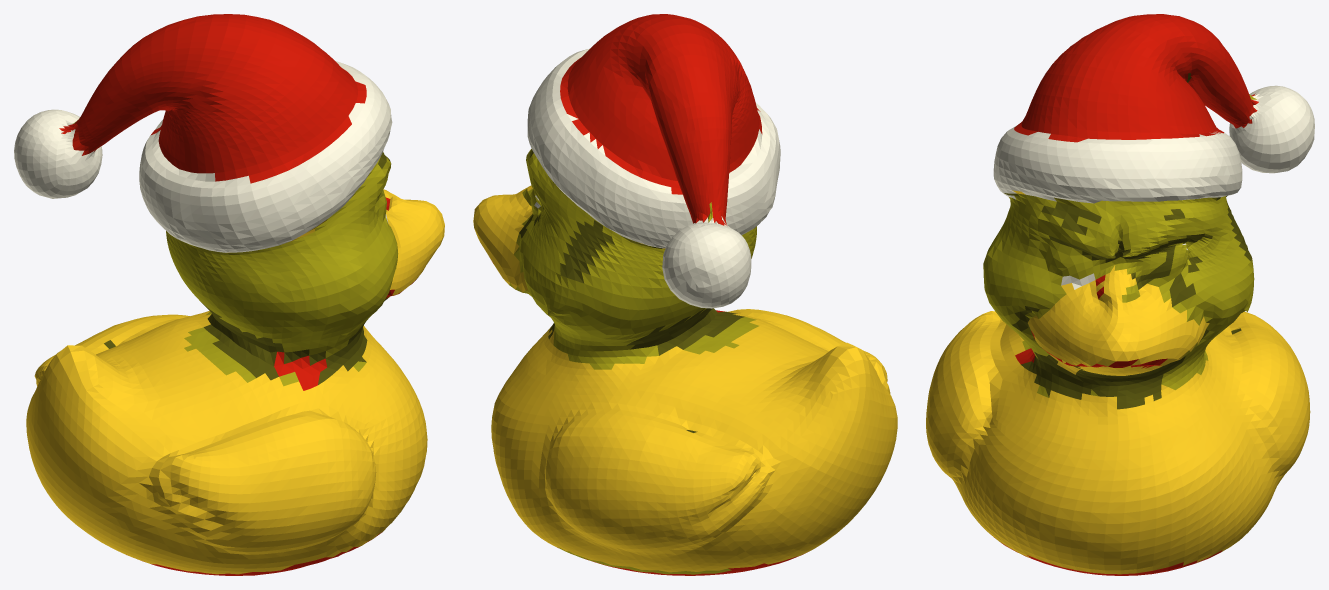
File: region_materials.obj
The picture shows the model from 3 angles, left to right: view 1: azimuth 30°, elevation 25°; view 2: azimuth 150°, elevation 25°; view 3: azimuth 270°, elevation 25°; orthographic projection. The views are drawn at different scales.
Parts seen in each view (by area): view 1: RegionGroupedMesh; view 2: RegionGroupedMesh; view 3: RegionGroupedMesh.
Boxes of the visible parts, box(x1,y1,x2,y2) form: RegionGroupedMesh: box(14, 14, 444, 575); RegionGroupedMesh: box(473, 14, 897, 575); RegionGroupedMesh: box(926, 14, 1314, 575).
Size of the model in its own units: 0.8036 by 0.999 by 0.6925.
